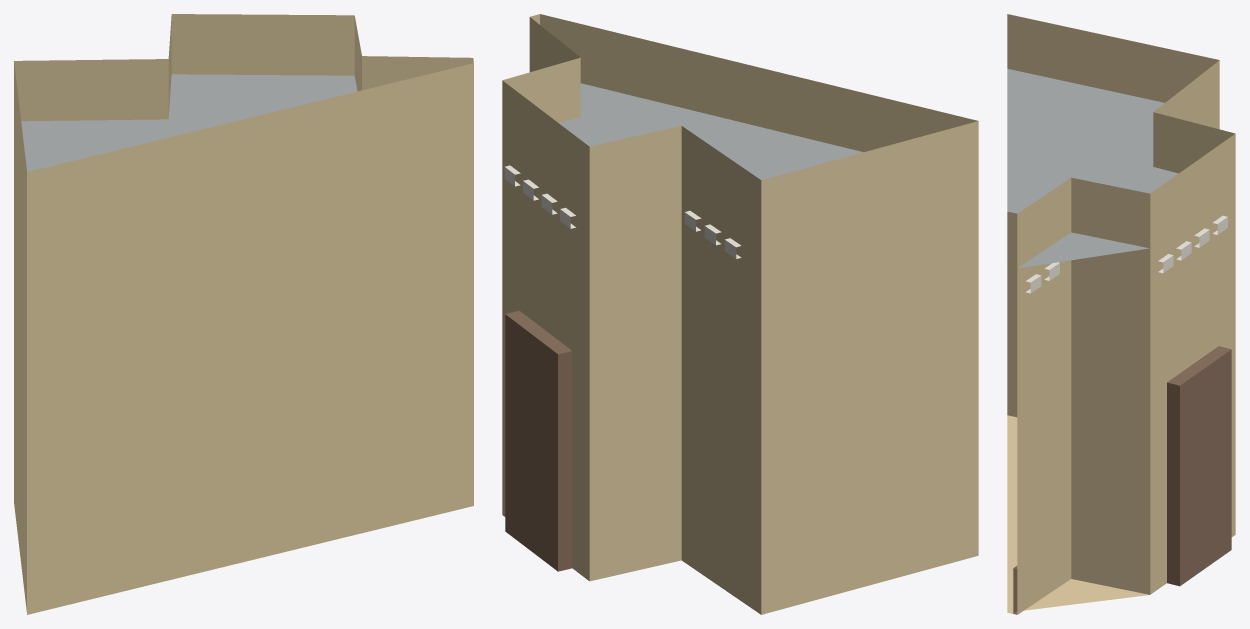
File: N-40-42.street_magasin.glb
3 views of the same model, side by side, from view 1: azimuth 30°, elevation 25°; view 2: azimuth 150°, elevation 25°; view 3: azimuth 270°, elevation 25° (orthographic). The views are drawn at different scales.
Parts seen in each view (by area): view 1: N-40-42.street_magasin; view 2: N-40-42.street_magasin; view 3: N-40-42.street_magasin.
Part boxes in pixels (box(x1,y1,x2,y2)): N-40-42.street_magasin: box(14, 14, 473, 614); N-40-42.street_magasin: box(502, 14, 978, 614); N-40-42.street_magasin: box(1007, 14, 1235, 614).
Bounding box in the file's own units: 4.7 × 4.4 × 2.27.
